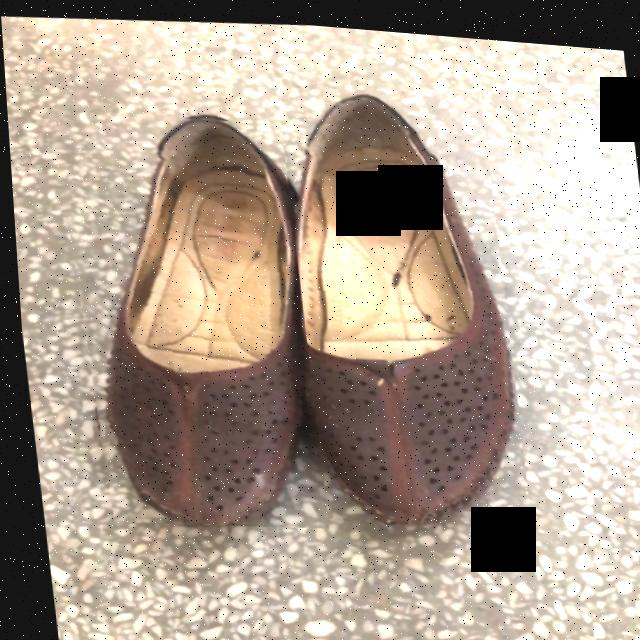shoe: (298, 84, 515, 513), (91, 116, 302, 522)
